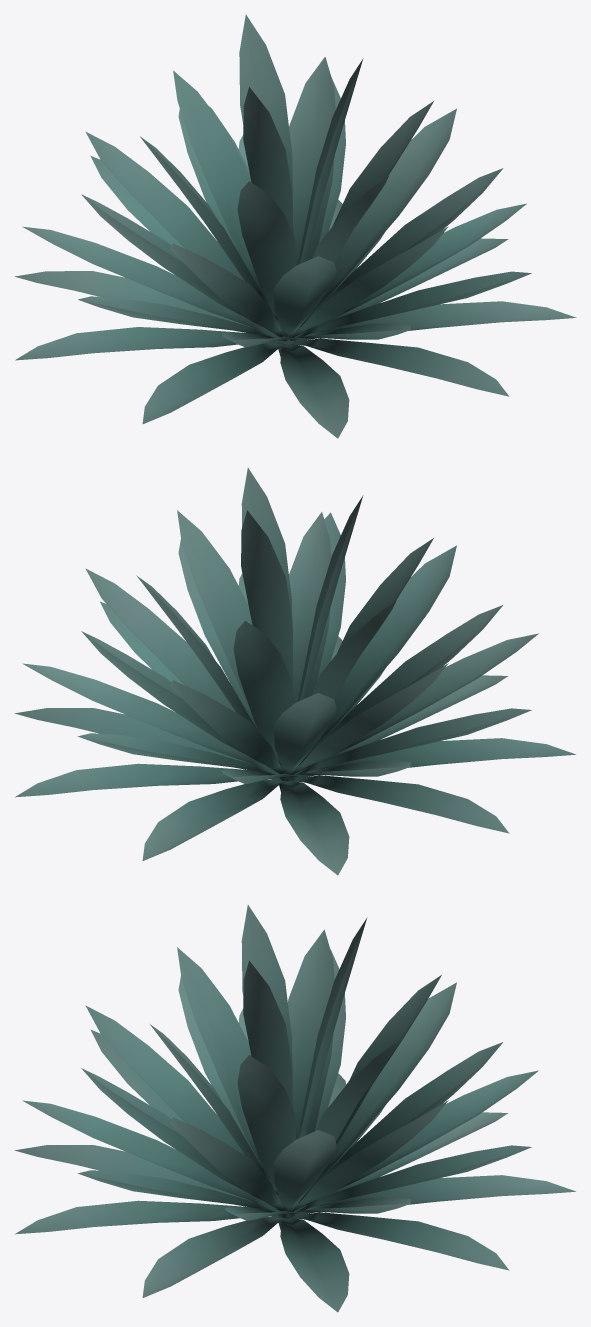
Rendered from plants-cacti-succulents-agave_v7.glb.
The picture shows the model from 3 angles, top to bottom: view 1: azimuth 30°, elevation 25°; view 2: azimuth 150°, elevation 25°; view 3: azimuth 270°, elevation 25°; orthographic projection.
Visible parts, largest first — view 1: Agave_v7; view 2: Agave_v7; view 3: Agave_v7.
Boxes of the visible parts, left/top/right/bottom form: Agave_v7: left=15, top=14, right=576, bottom=438; Agave_v7: left=14, top=468, right=575, bottom=875; Agave_v7: left=14, top=905, right=575, bottom=1312.
Size of the model in its own units: 1.2 by 0.7742 by 1.18.
